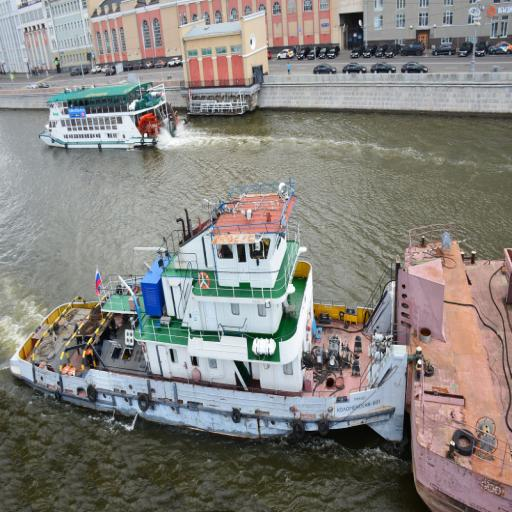tugboat: (5, 177, 409, 459)
